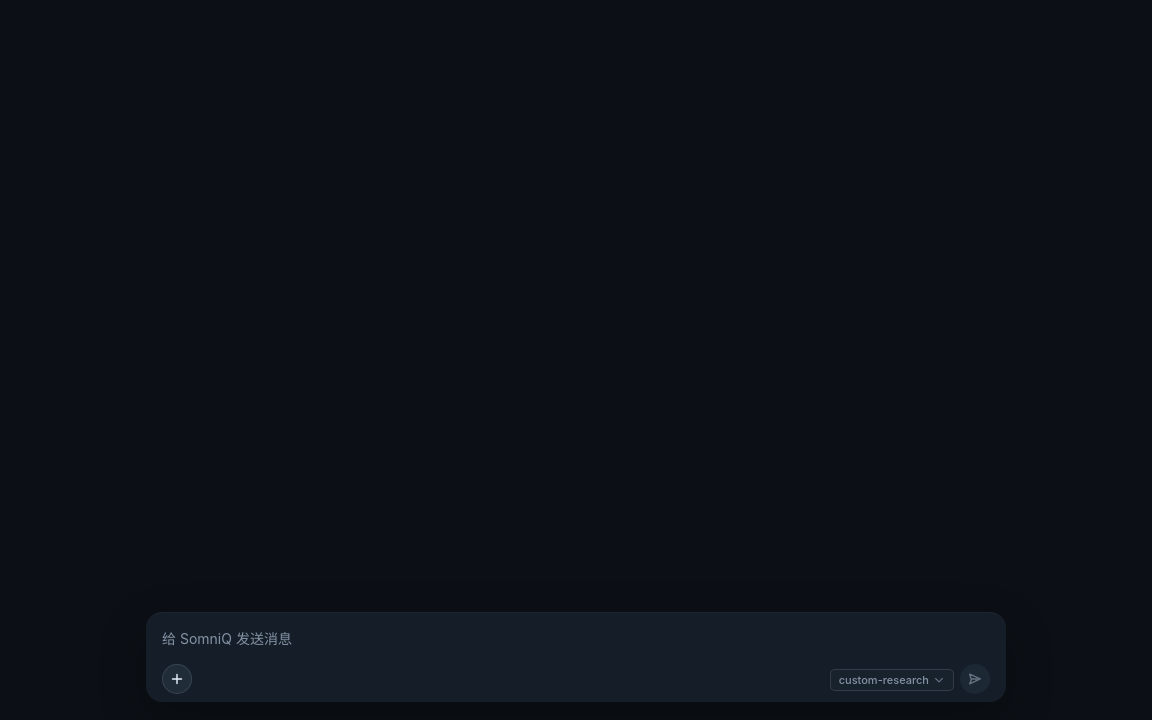
Scenario: ChatComposer model series › keeps routed and unknown models selectable and sends the original model ID
The width and height of the screenshot is (1152, 720).
Click the button "custom-research" at (892, 680), box [830, 668, 954, 690]
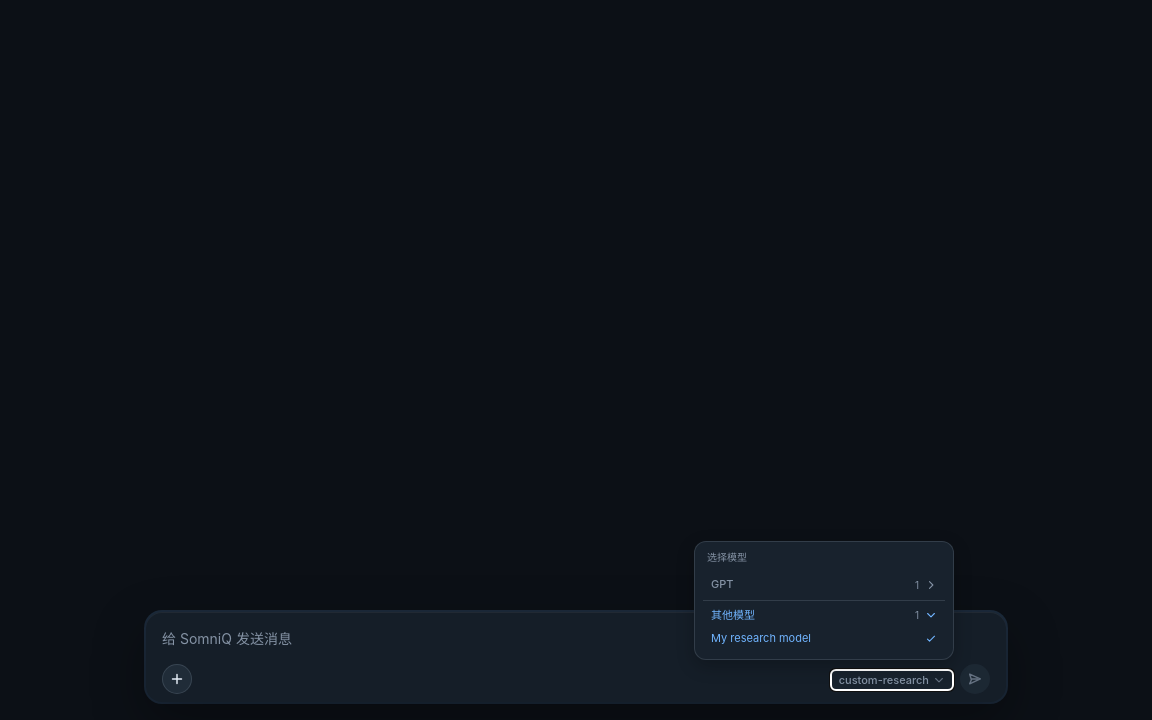
Click the menu item "GPT 1" at (824, 585), box [703, 573, 945, 597]
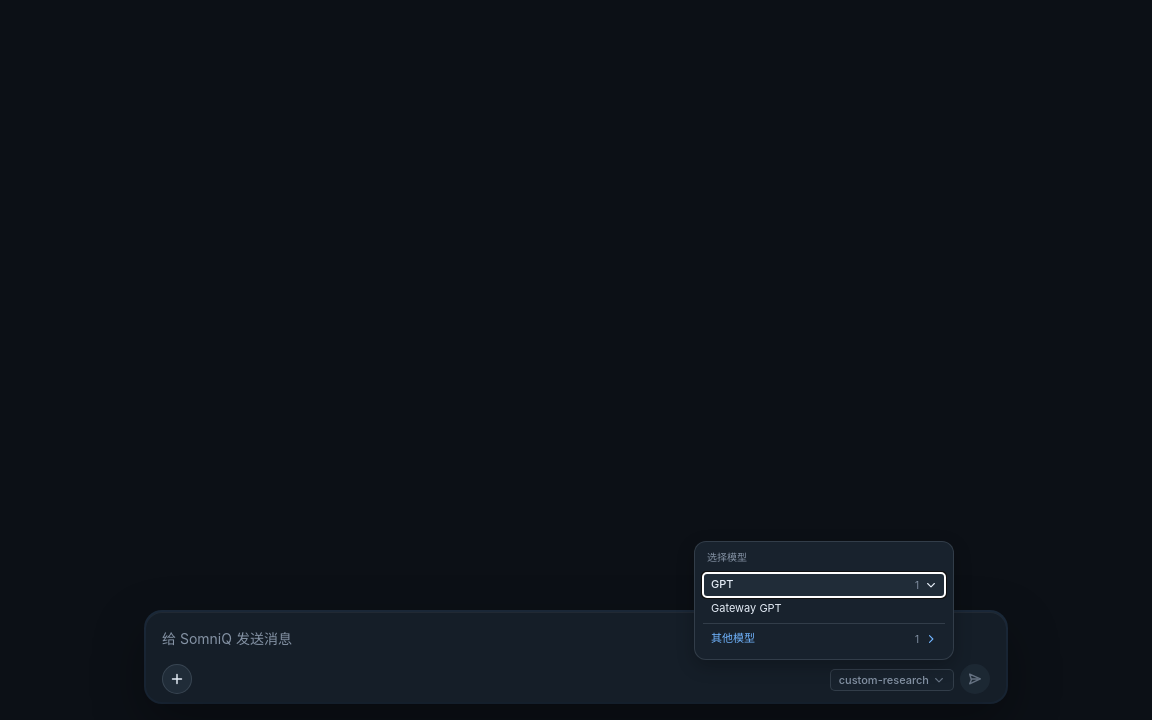
Click the menu item "Gateway GPT" at (824, 608), box [703, 597, 945, 620]
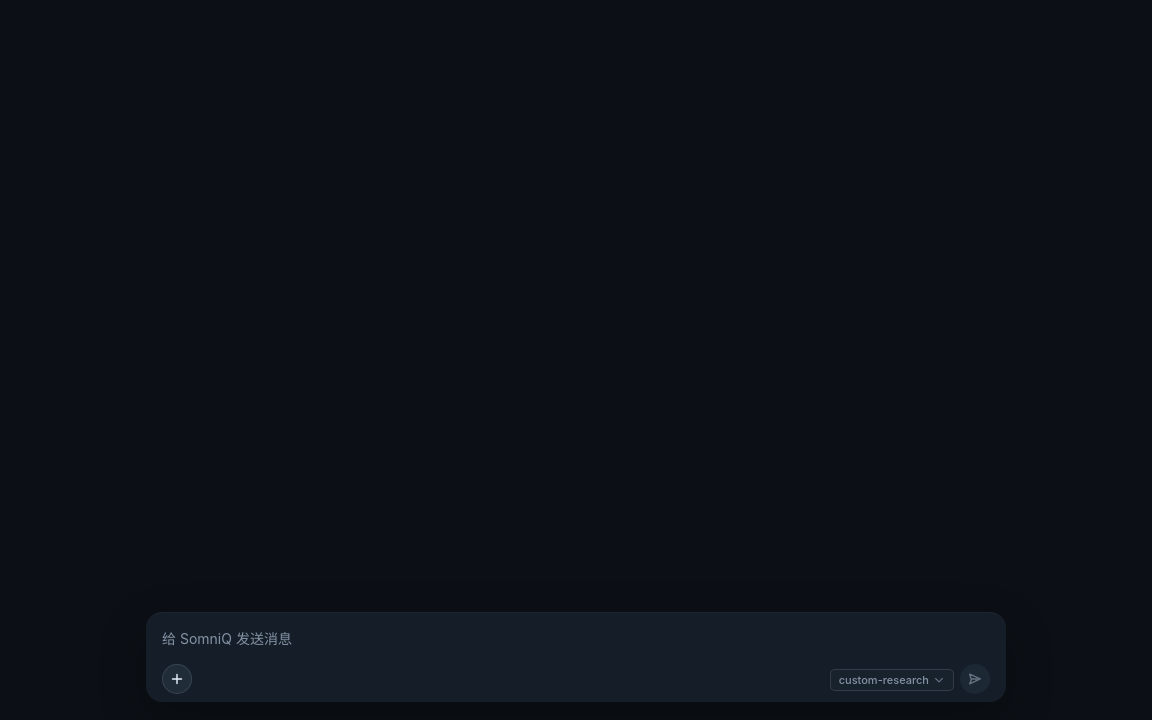
Check: the menu is gone
